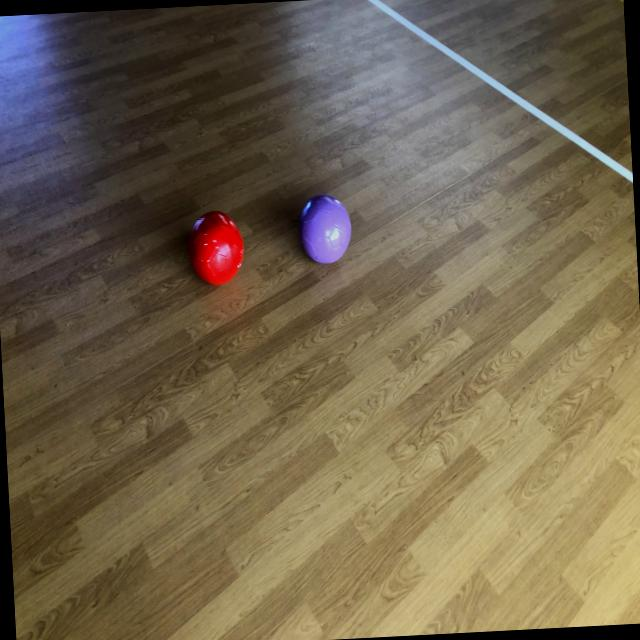red_ball: (178, 202, 254, 284)
